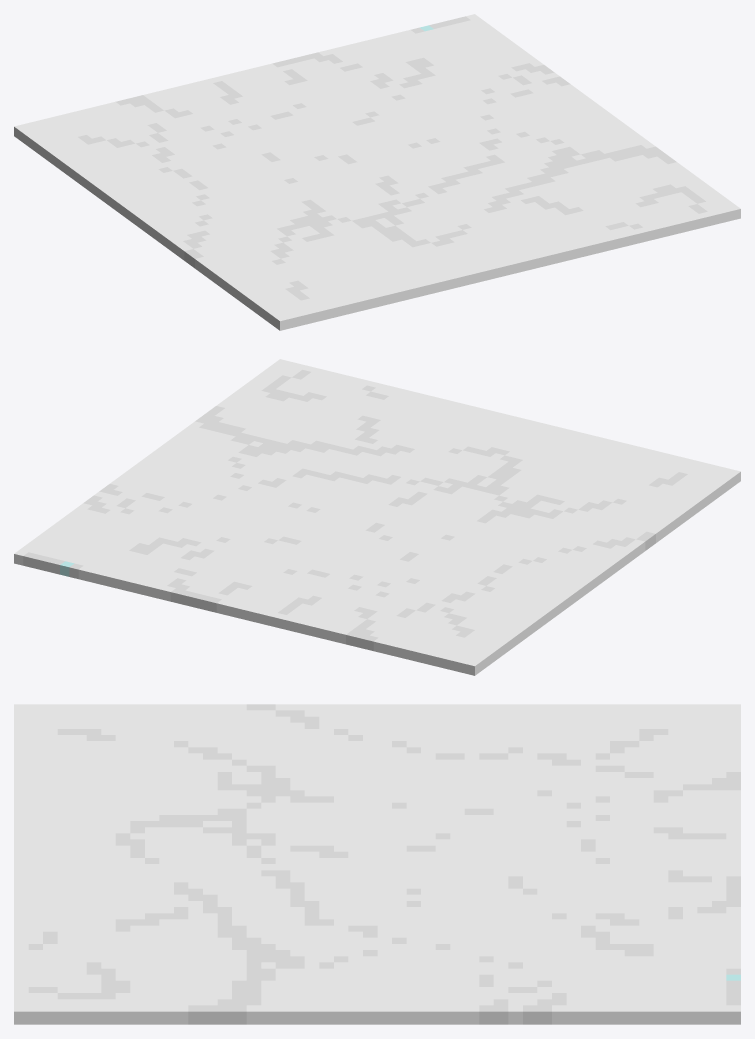
The model's file is snow_tile.obj.
3 renders of one model, top to bottom at view 1: azimuth 30°, elevation 25°; view 2: azimuth 150°, elevation 25°; view 3: azimuth 270°, elevation 25°, orthographic. The views are drawn at different scales.
Size of the model in its own units: 5 by 0.1 by 5.
1 material, 1 textured.
